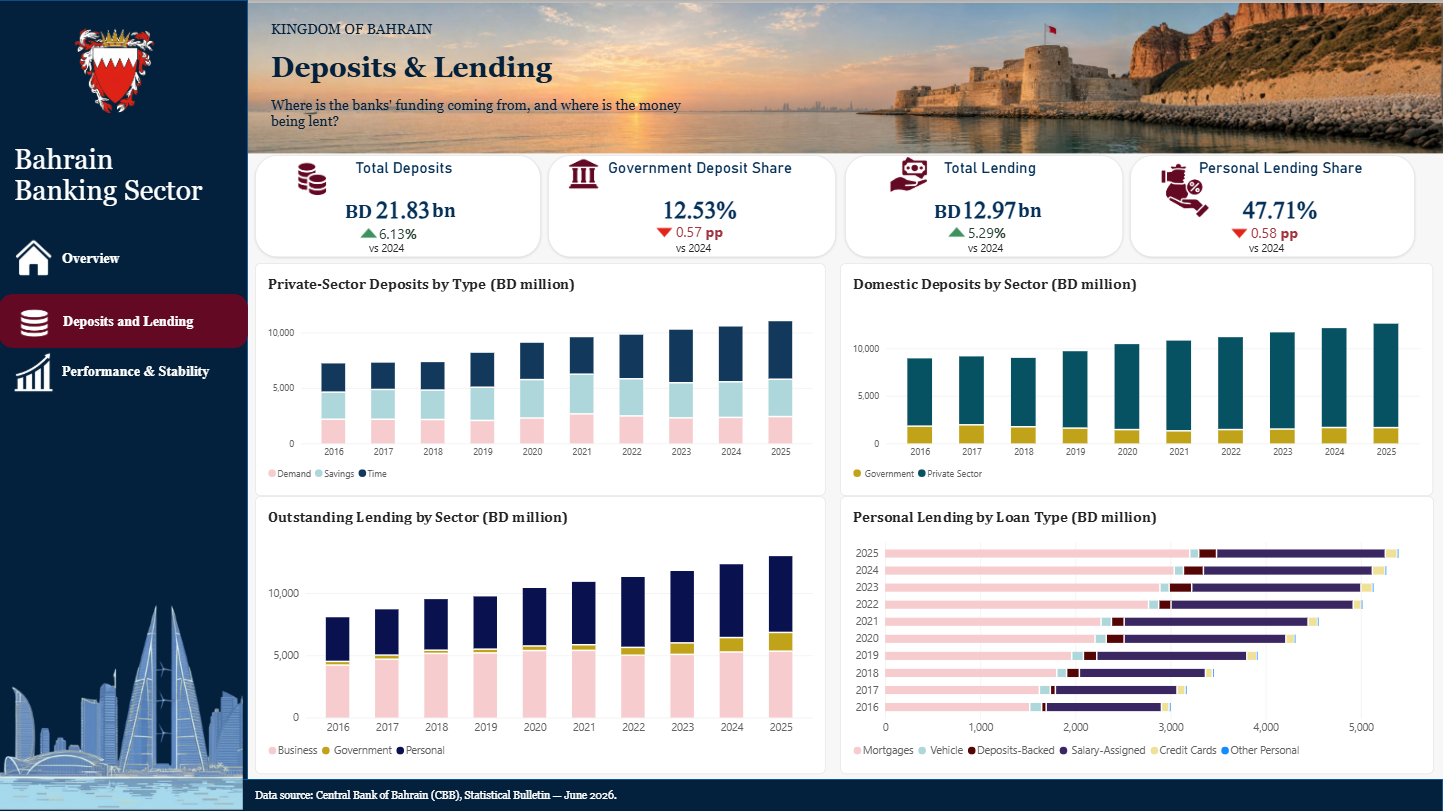

The page's visual inventory and layout, read from the dashboard file:
{"tool":"powerbi","page":{"name":"Deposits and Lending","canvas":[1920,1080],"ordinal":1},"visuals":[{"type":"shape","box":[0,1035.6,1920.3,44.4],"z":0},{"type":"image","box":[317.2,0,1603.4,177.6],"z":1000},{"type":"image","box":[317.2,0,1603.8,208.7],"z":2000},{"type":"shape","box":[0,0,331.2,1079.6],"z":3000},{"type":"shape","box":[0,391,331.2,71.8],"z":4000},{"type":"image","box":[33.3,0,244.7,190.2],"z":5000},{"type":"textbox","box":[20.2,189.9,320.5,102.3],"z":6000},{"type":"image","box":[20.2,311.1,52.5,61.9],"z":7000},{"type":"image","box":[20.2,405.3,52.5,45.8],"z":8000},{"type":"image","box":[10.8,464.6,72.7,61.9],"z":9000},{"type":"textbox","box":[83.5,332.6,106.4,35],"z":11000},{"type":"textbox","box":[84.8,416.1,193.9,35],"z":12000},{"type":"textbox","box":[83.8,482.8,210.1,57.2],"z":13000},{"type":"shape","box":[0,1035.6,1920.3,44.4],"z":15000},{"type":"image","box":[0,787.8,331.2,291.8],"z":16000},{"type":"textbox","box":[362.2,28.3,558.9,184.5],"z":17000},{"type":"columnChart","title":"Domestic Deposits by Sector (BD million)","fields":{"Category":["Page2_Deposits.Year"],"Y":["Sum(Page2_Deposits.Government_Deposits_BD_Million)","Sum(Page2_Deposits.Private_Sector_BD_Deposits)"]},"box":[1118.6,349.8,788.7,309.9],"z":18000},{"type":"columnChart","title":"Private-Sector Deposits by Type (BD million)","fields":{"Category":["Page2_Deposits.Year"],"Y":["Sum(Page2_Deposits.Demand_Deposits_BD_Million)","Sum(Page2_Deposits.Savings_Deposits_BD_Million)","Sum(Page2_Deposits.Time_Deposits_BD_Million)"]},"box":[340.5,349.8,759.5,309.9],"z":19000},{"type":"columnChart","title":"Outstanding Lending by Sector (BD million)","fields":{"Category":["Page2_Lending.Year"],"Y":["Sum(Page2_Lending.Business_Loans_BD_Million)","Sum(Page2_Lending.Government_Loans_BD_Million)","Sum(Page2_Lending.Personal_Loans_BD_Million)"]},"box":[340.5,659.7,759.5,369.8],"z":20000},{"type":"barChart","title":"Personal Lending by Loan Type (BD million)","fields":{"Category":["Page2_Lending.Year"],"Y":["Sum(Page2_Lending.Mortgages_BD_Million)","Sum(Page2_Lending.Vehicle_Loans_BD_Million)","Sum(Page2_Lending.Loans_Against_Deposits_BD_Million)","Sum(Page2_Lending.Salary_Assignment_Loans_BD_Million)","Sum(Page2_Lending.Credit_Card_Loans_BD_Million)","Sum(Page2_Lending.Other_Personal_Loans_Share_%)"]},"box":[1118.6,659.7,790,369.8],"z":21000},{"type":"kpi","title":"Total Deposits","fields":{"Indicator":["Page1_Overview.Total Deposits Latest BD"],"TrendLine":["Page2_Deposits.Year"]},"box":[340.5,206.2,380.4,135.7],"z":22000},{"type":"kpi","title":"Total Lending","fields":{"Indicator":["Page1_Overview.Total Lending Latest BD"],"TrendLine":["Page1_Overview.Year"]},"box":[1125.2,206.2,369.8,135.7],"z":23000},{"type":"image","box":[375.1,212.8,82.5,49.2],"z":24000},{"type":"image","box":[470.8,297.9,41.2,25.3],"z":25000},{"type":"textbox","box":[492.1,320.5,67.1,29.2],"z":26000},{"type":"textbox","box":[505.4,297.9,90.4,25.3],"z":27000},{"type":"textbox","box":[460,264.7,54.5,39.9],"z":28000},{"type":"textbox","box":[1243,264.7,54.5,39.9],"z":29000},{"type":"textbox","box":[1355,264,58.5,37.2],"z":30000},{"type":"textbox","box":[576,263,58.5,37.2],"z":31000},{"type":"image","box":[1252.9,296.6,41.2,25.3],"z":32000},{"type":"textbox","box":[1288.8,320,67.1,29.2],"z":33000},{"type":"textbox","box":[1288.8,296.3,90.4,30.6],"z":34000},{"type":"kpi","title":"Government Deposit Share","fields":{"Indicator":["Page2_Deposits.Government Deposit Share Latest"],"TrendLine":["Page2_Deposits.Year"]},"box":[730.2,206.2,383.1,135.7],"z":35000},{"type":"image","box":[868.5,296.6,31.9,23.9],"z":36000},{"type":"textbox","box":[900.4,295.3,90.4,30.6],"z":37000},{"type":"textbox","box":[900.4,320,67.1,29.2],"z":38000},{"type":"image","box":[739.5,208.8,75.8,45.2],"z":39000},{"type":"kpi","title":"Personal Lending Share","fields":{"Indicator":["Page2_Lending.Personal Lending Share Latest"],"TrendLine":["Page2_Lending.Year"]},"box":[1504.3,206.2,379.1,135.7],"z":40000},{"type":"image","box":[1632.7,297.3,31.9,23.9],"z":41000},{"type":"textbox","box":[1664.6,296,90.4,30.6],"z":42000},{"type":"textbox","box":[1661.9,320,67.1,29.2],"z":43000},{"type":"image","box":[1163.8,199.5,89.1,65.2],"z":44000},{"type":"image","box":[1530.9,190.2,85.1,122.4],"z":45000},{"type":"shape","box":[0,310.8,331.2,71.8],"z":45001},{"type":"shape","box":[0,392.5,331.2,71.8],"z":45002},{"type":"shape","box":[0,468.3,331.2,71.8],"z":45003},{"type":"textbox","box":[340.5,1048.1,637.1,30.6],"z":45004}]}

Visuals, with their boxes on the page's 1920x1080 design canvas (x1, y1, x2, y2). These are canvas units, not pixel positions in the 1443x811 screenshot, which may show the page scaled, cropped or inside an application window:
shape: (0, 1036, 1920, 1080)
image: (317, 0, 1921, 178)
image: (317, 0, 1921, 209)
shape: (0, 0, 331, 1080)
shape: (0, 391, 331, 463)
image: (33, 0, 278, 190)
textbox: (20, 190, 341, 292)
image: (20, 311, 73, 373)
image: (20, 405, 73, 451)
image: (11, 465, 84, 526)
textbox: (84, 333, 190, 368)
textbox: (85, 416, 279, 451)
textbox: (84, 483, 294, 540)
shape: (0, 1036, 1920, 1080)
image: (0, 788, 331, 1080)
textbox: (362, 28, 921, 213)
"Domestic Deposits by Sector (BD million)" columnChart: (1119, 350, 1907, 660)
"Private-Sector Deposits by Type (BD million)" columnChart: (340, 350, 1100, 660)
"Outstanding Lending by Sector (BD million)" columnChart: (340, 660, 1100, 1030)
"Personal Lending by Loan Type (BD million)" barChart: (1119, 660, 1909, 1030)
"Total Deposits" kpi: (340, 206, 721, 342)
"Total Lending" kpi: (1125, 206, 1495, 342)
image: (375, 213, 458, 262)
image: (471, 298, 512, 323)
textbox: (492, 320, 559, 350)
textbox: (505, 298, 596, 323)
textbox: (460, 265, 514, 305)
textbox: (1243, 265, 1298, 305)
textbox: (1355, 264, 1414, 301)
textbox: (576, 263, 634, 300)
image: (1253, 297, 1294, 322)
textbox: (1289, 320, 1356, 349)
textbox: (1289, 296, 1379, 327)
"Government Deposit Share" kpi: (730, 206, 1113, 342)
image: (868, 297, 900, 320)
textbox: (900, 295, 991, 326)
textbox: (900, 320, 968, 349)
image: (740, 209, 815, 254)
"Personal Lending Share" kpi: (1504, 206, 1883, 342)
image: (1633, 297, 1665, 321)
textbox: (1665, 296, 1755, 327)
textbox: (1662, 320, 1729, 349)
image: (1164, 200, 1253, 265)
image: (1531, 190, 1616, 313)
shape: (0, 311, 331, 383)
shape: (0, 392, 331, 464)
shape: (0, 468, 331, 540)
textbox: (340, 1048, 978, 1079)
